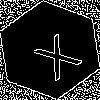X: (25, 25, 84, 82)
